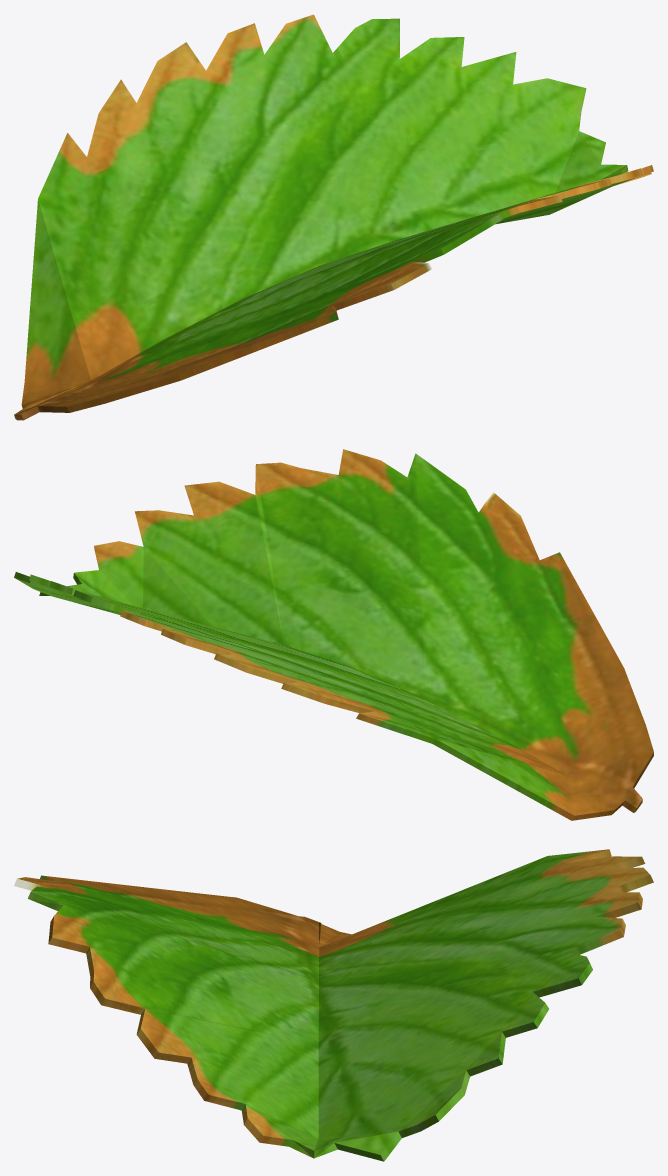
The model's file is leaf1_s2.dae.
The picture shows the model from 3 angles, top to bottom: view 1: azimuth 30°, elevation 25°; view 2: azimuth 150°, elevation 25°; view 3: azimuth 270°, elevation 25°; orthographic projection. The views are drawn at different scales.
Visible parts, largest first — view 1: Plane; view 2: Plane; view 3: Plane.
Part boxes in pixels (x1,y1,x2,y2): Plane: (14, 14, 653, 420); Plane: (14, 449, 653, 820); Plane: (14, 849, 653, 1161).
Bounding box in the file's own units: 0.1327 × 0.101 × 0.0426.
1 material, 1 textured.
